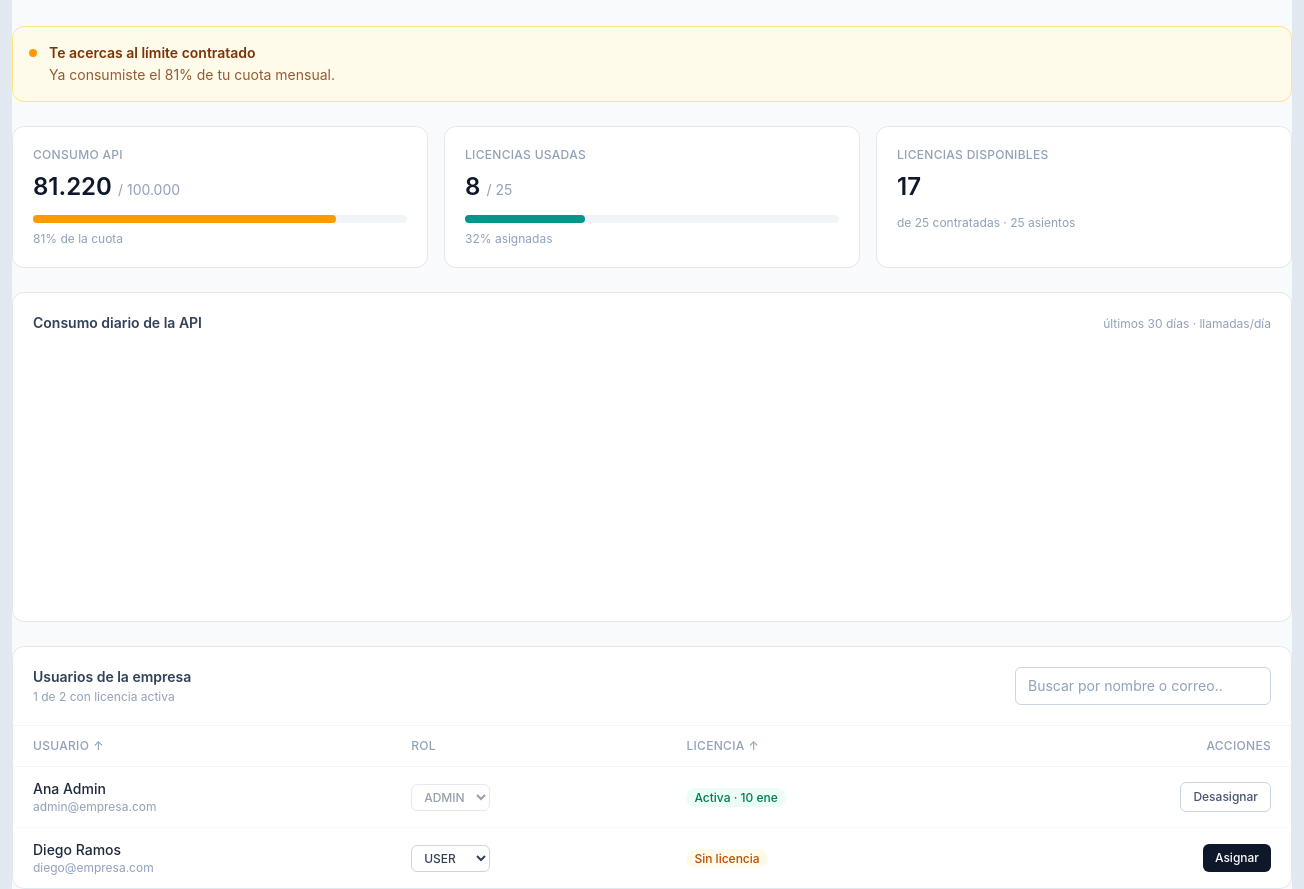
Scenario: dashboard view › assigns a license to an unlicensed user
(page scrolled)
Click the button "Asignar" at x=1237, y=858, box [1203,844,1271,872]
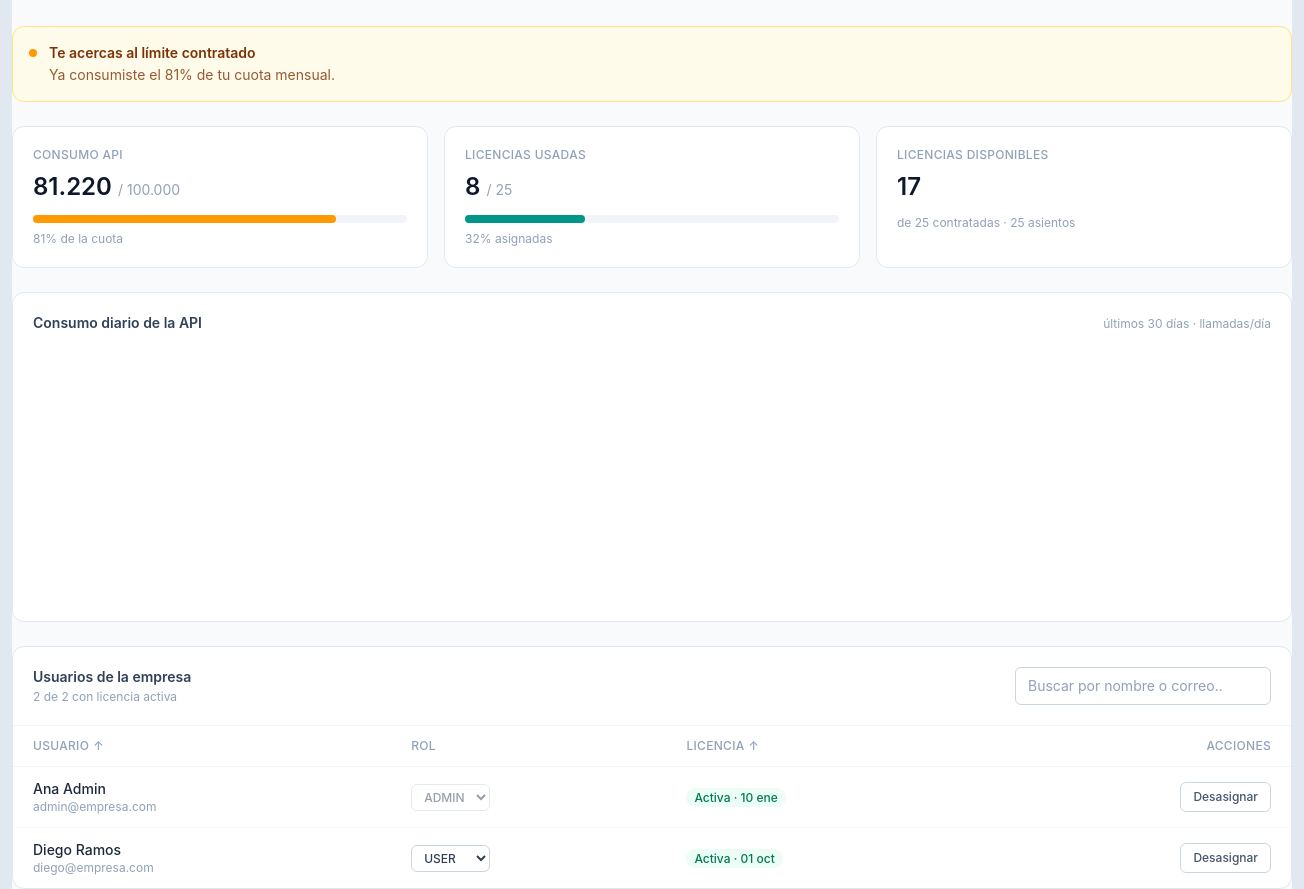
Now the text "Sin licencia" is gone
Now the row "Diego Ramos diego@empresa.com Activa · 01 oct Desasignar" is shown, box [13,828,1291,888]
Now the button "Desasignar" in the row of "Diego Ramos" is shown, box [1180,843,1271,873]
